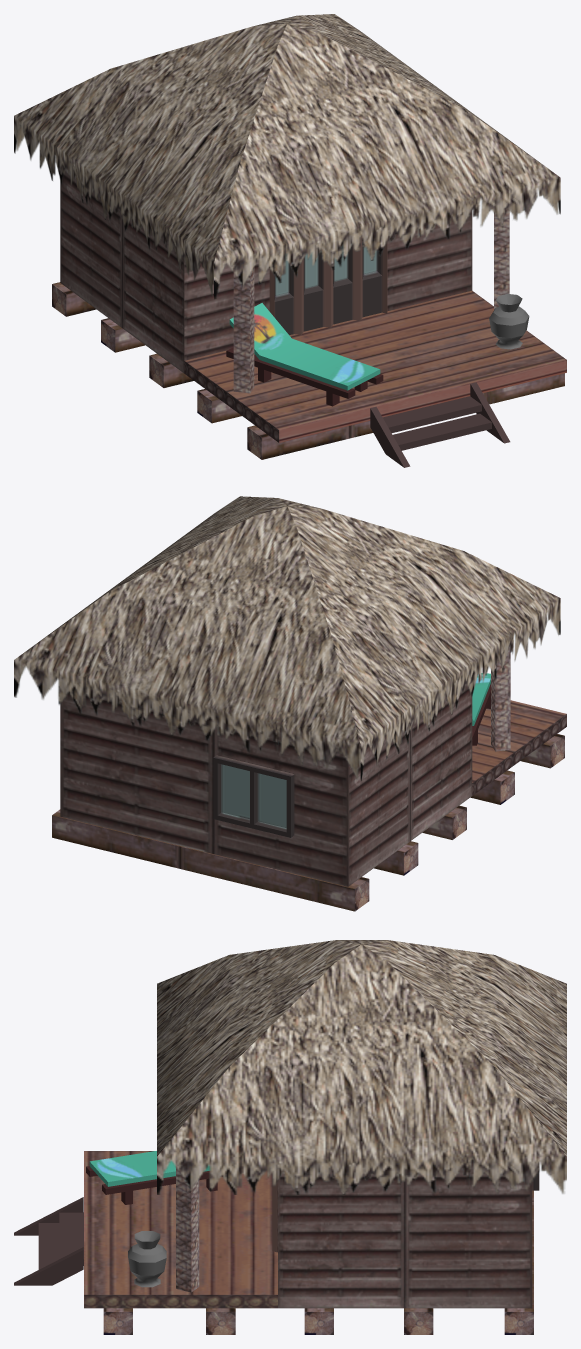
3 renders of one model, top to bottom at view 1: azimuth 30°, elevation 25°; view 2: azimuth 150°, elevation 25°; view 3: azimuth 270°, elevation 25°, orthographic. The views are drawn at different scales.
Parts seen in each view (by area): view 1: polySurface23; view 2: polySurface23; view 3: polySurface23.
Part boxes in pixels (left/top/right/bottom): polySurface23: left=14, top=14, right=566, bottom=467; polySurface23: left=14, top=496, right=566, bottom=911; polySurface23: left=14, top=940, right=566, bottom=1334.
Size of the model in its own units: 548 by 464 by 739.
Materials: 1 (1 with a texture image).
